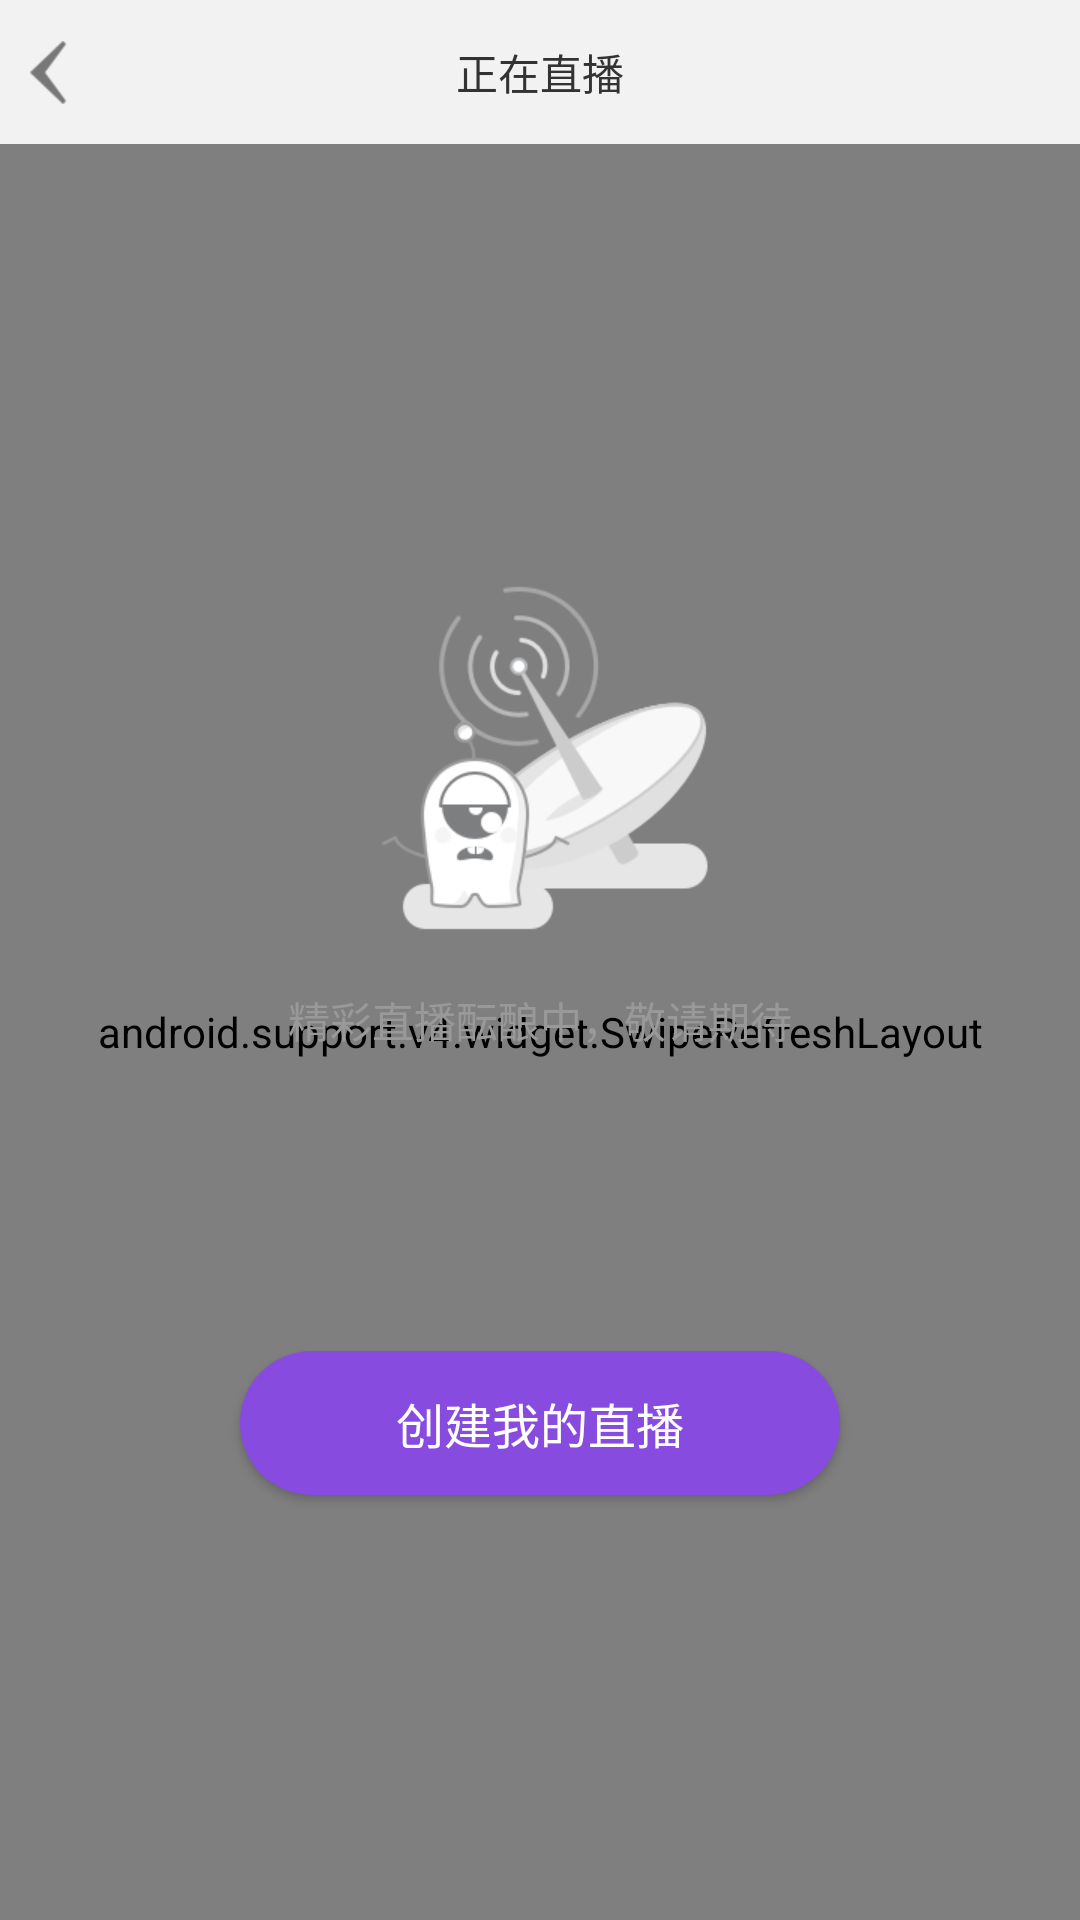

Icon click points for this 1080 × 1920 phone screenshot, format point (x, y):
back: point (48, 72)
no live data: point (546, 758)
